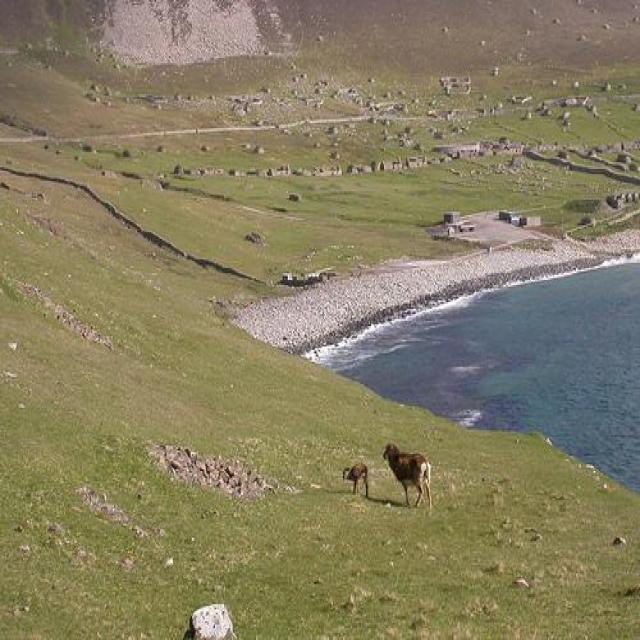Sheep: (384, 442, 433, 510)
